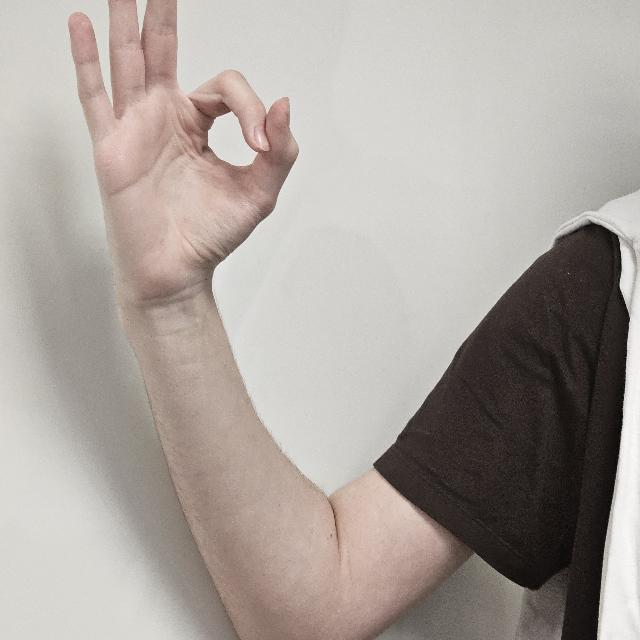Bolinha: (53, 1, 309, 322)
